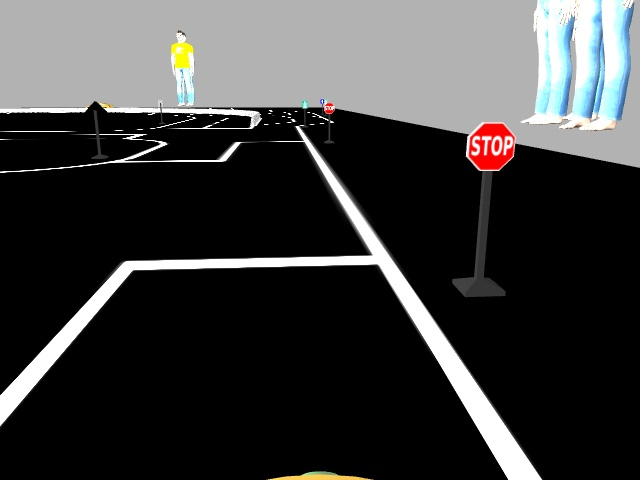Stop: (465, 121, 515, 170), (323, 102, 334, 113)
